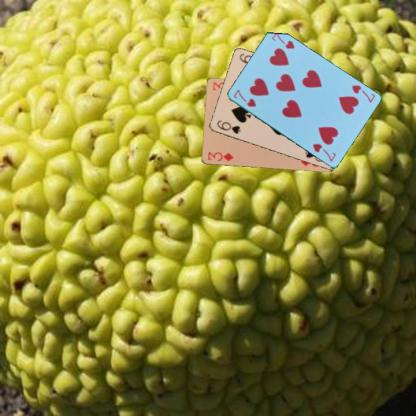3d: (205, 150, 235, 162)
6s: (214, 118, 242, 135)
7h: (349, 83, 376, 104), (231, 87, 257, 108)
